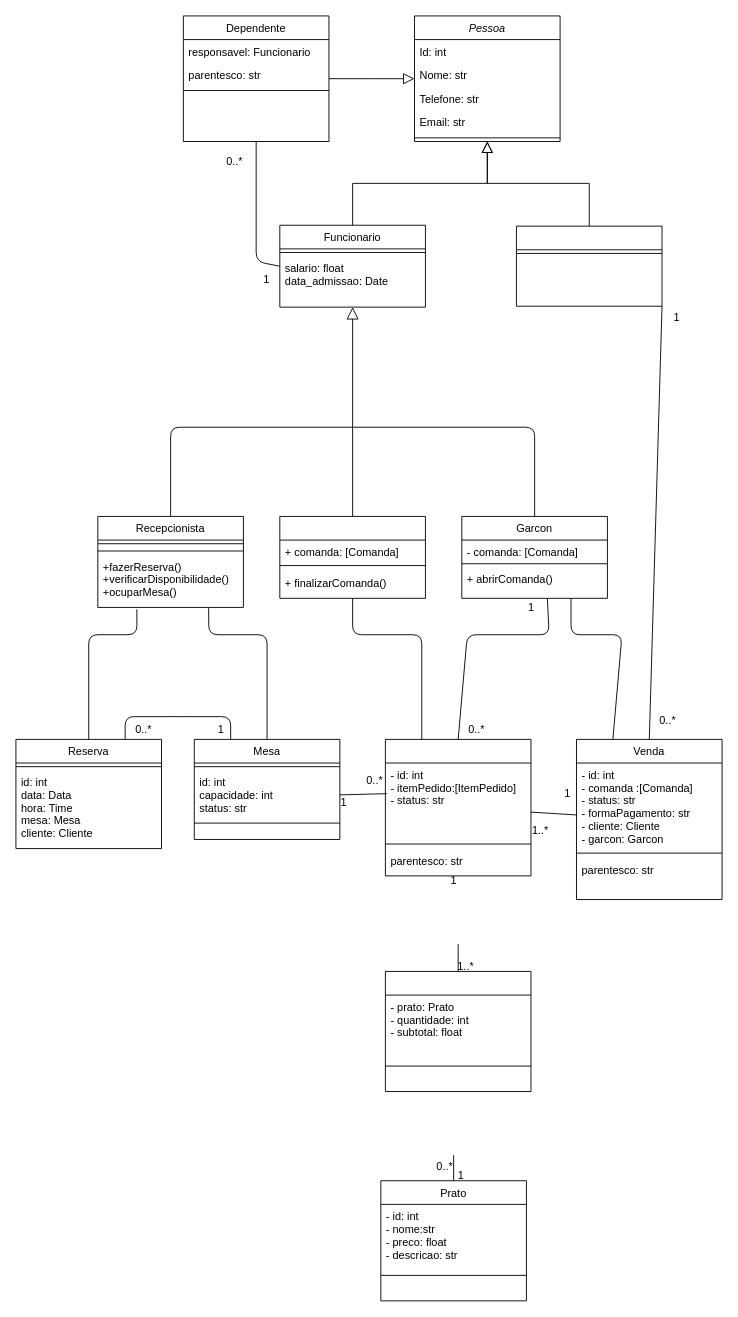
Image size: 738x1317. Some labels were removed from this diagram. Each missing label, with the box of its shape:
Cliente: (516, 225, 662, 306)
Comanda: (384, 738, 531, 876)
Cozinheiro: (279, 516, 425, 598)
ItemPedido: (384, 971, 531, 1092)
